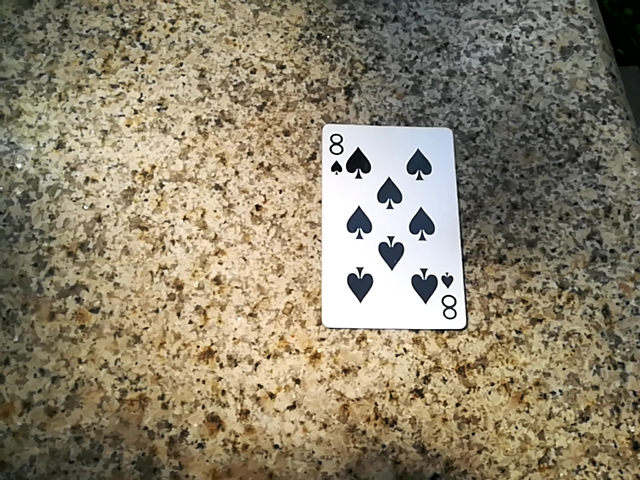ht 8: (316, 116, 466, 335)
